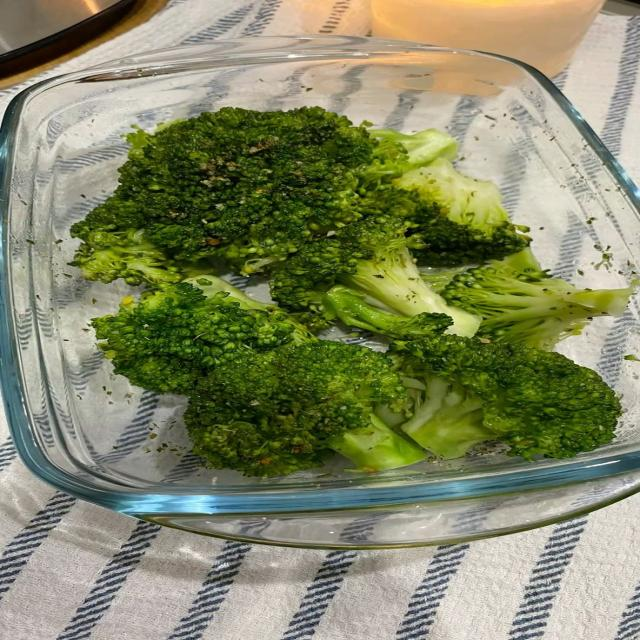broccoli: (93, 276, 424, 475), (72, 107, 380, 276), (327, 287, 620, 458), (185, 341, 425, 476), (271, 189, 479, 336), (392, 334, 621, 458), (93, 276, 312, 393), (441, 249, 633, 349), (393, 158, 530, 266), (71, 230, 211, 286), (323, 285, 451, 340), (360, 129, 458, 192), (368, 129, 459, 172)
